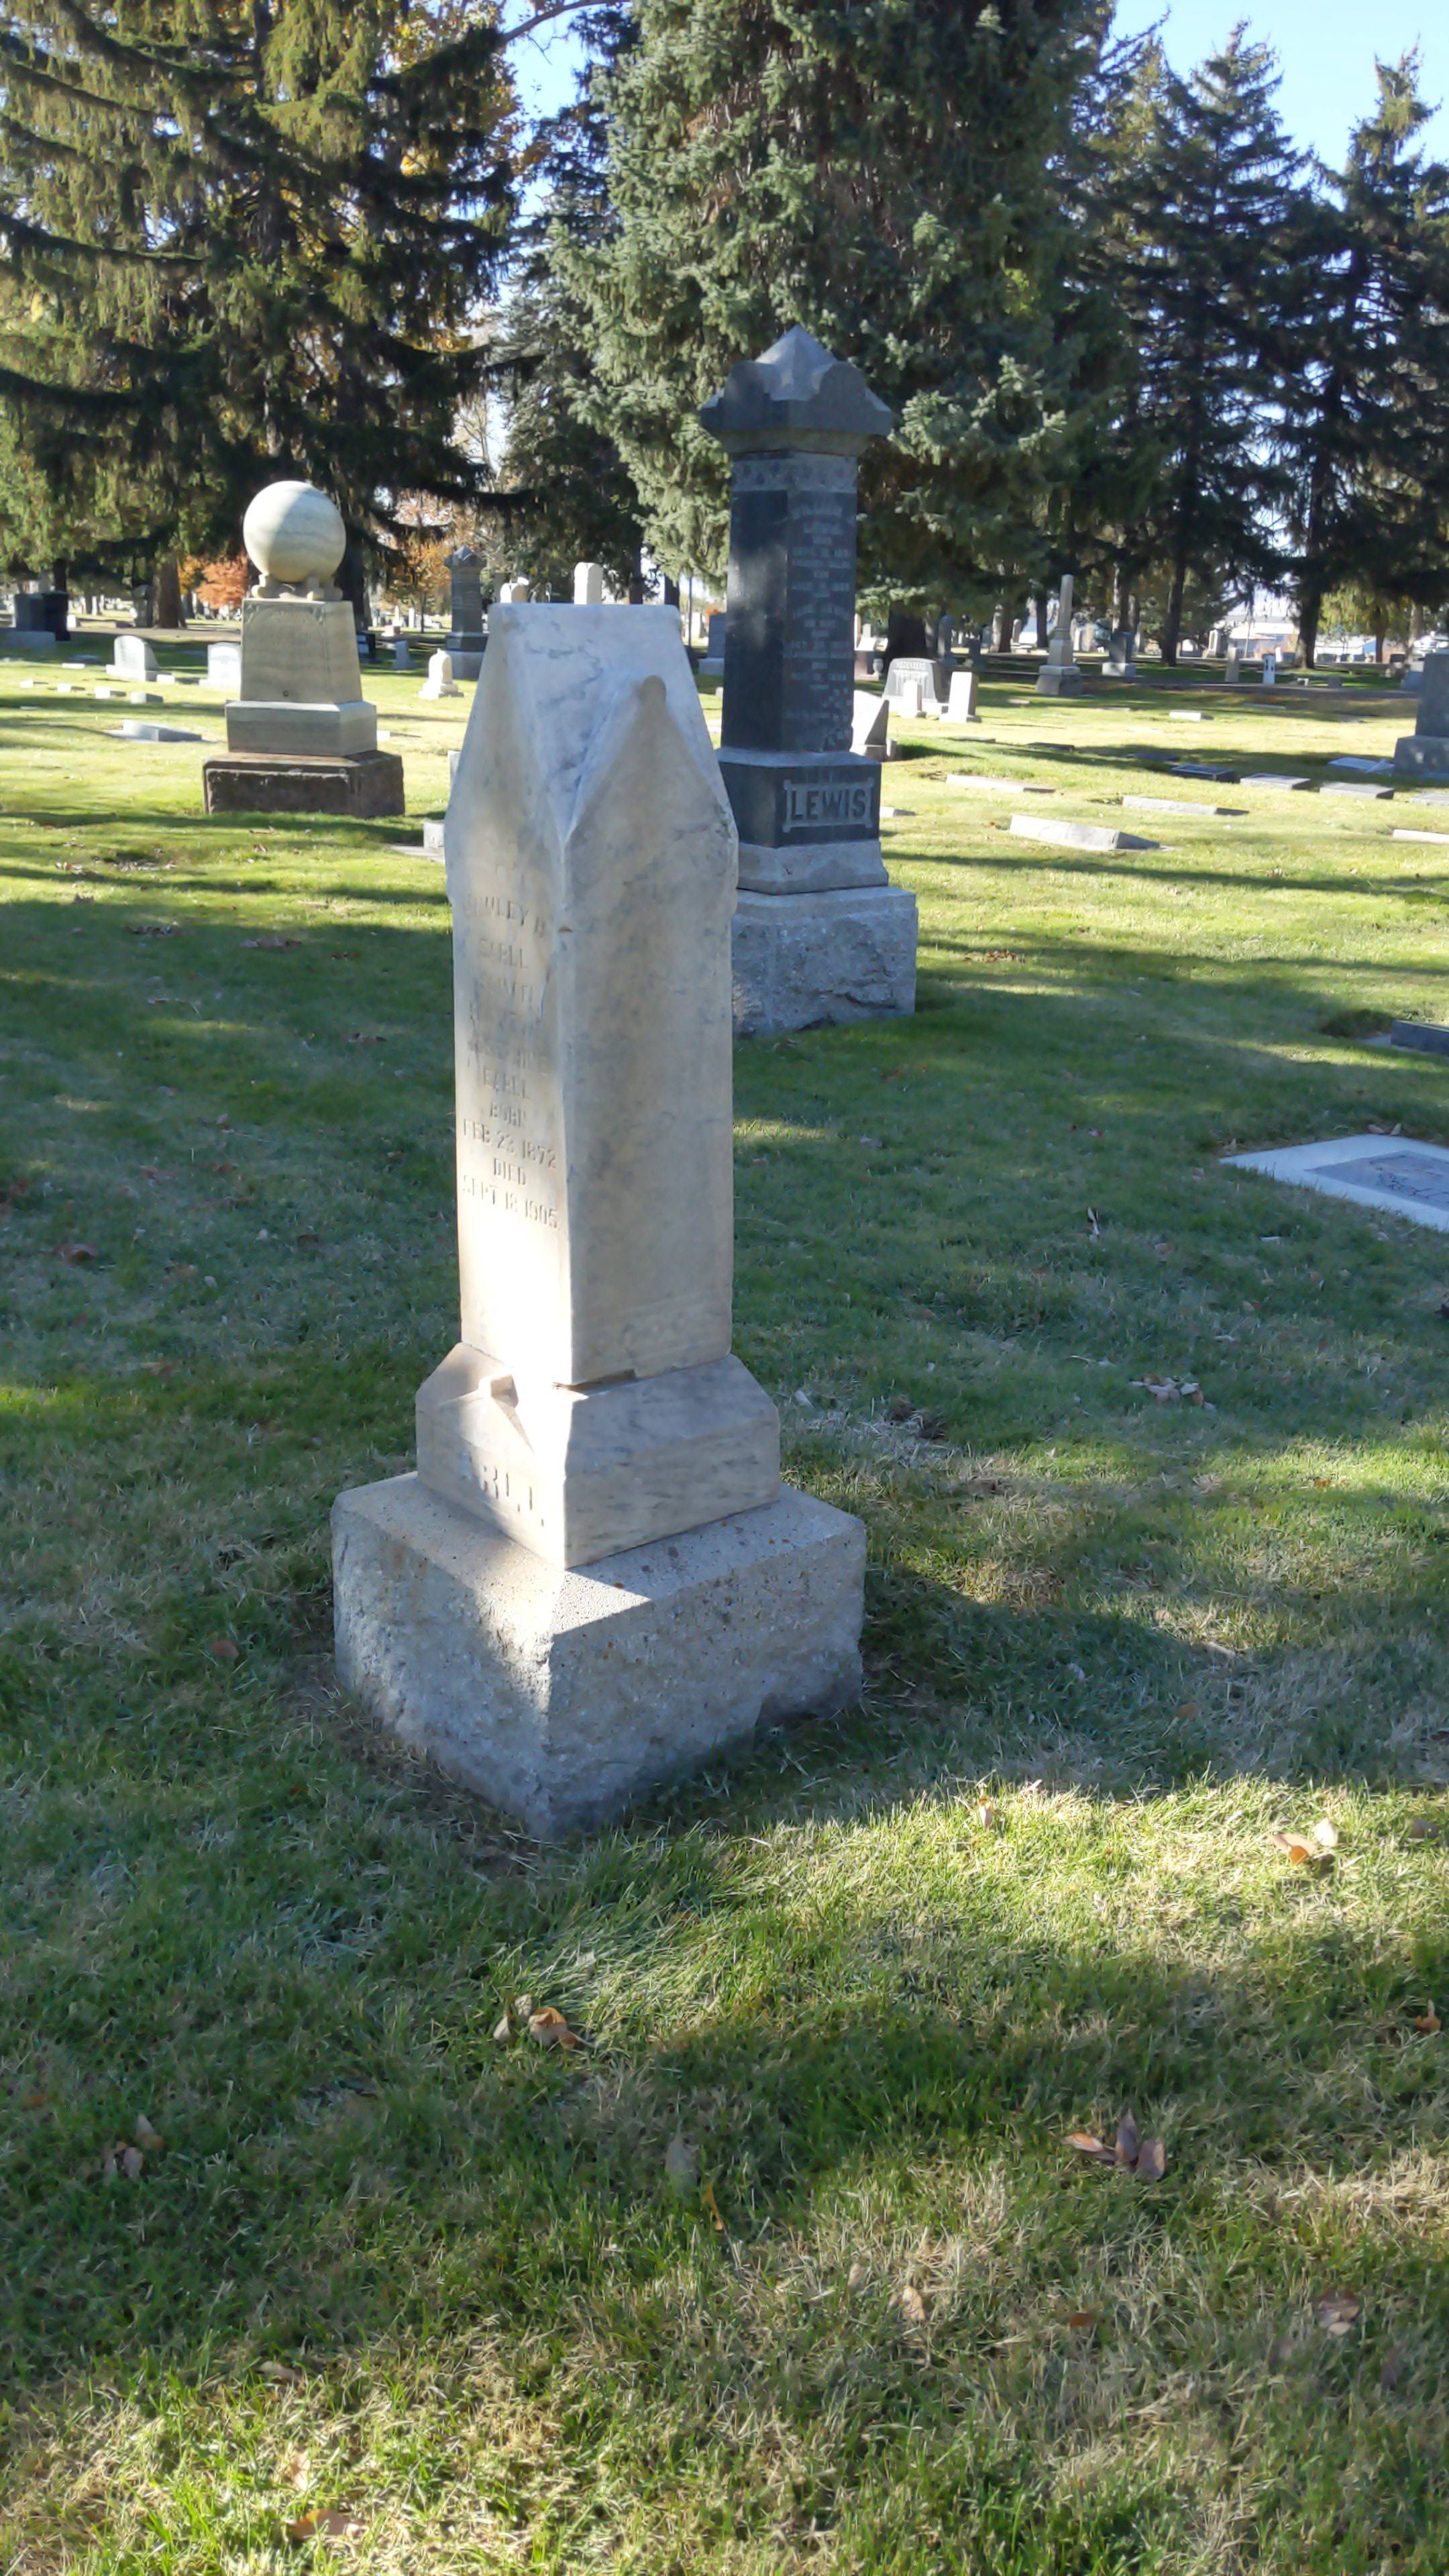obelisk: (419, 602, 777, 1583)
